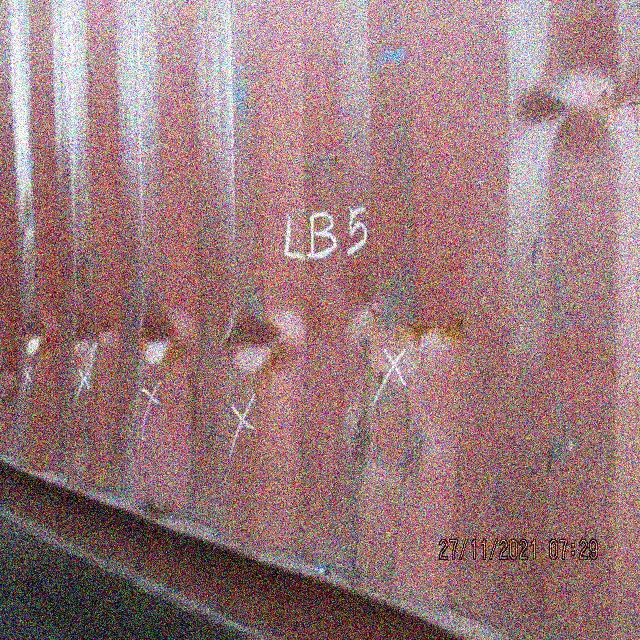Dent: (7, 172, 298, 485), (333, 193, 481, 528), (518, 28, 640, 164)
